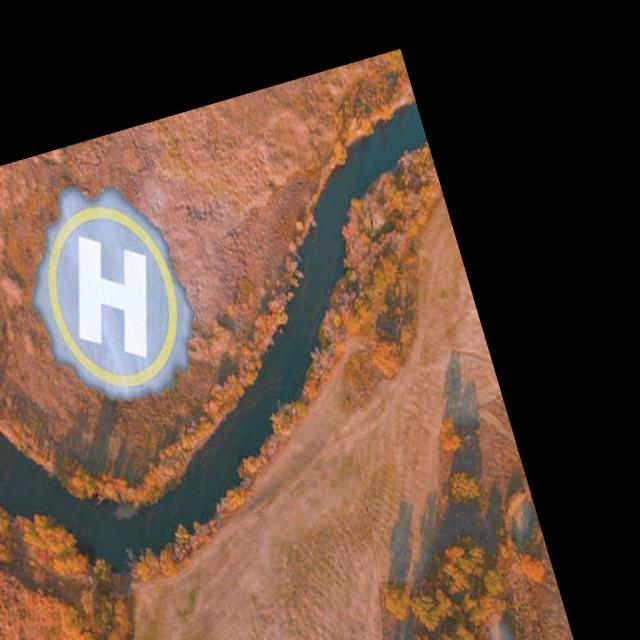helipad: (41, 201, 181, 390)
